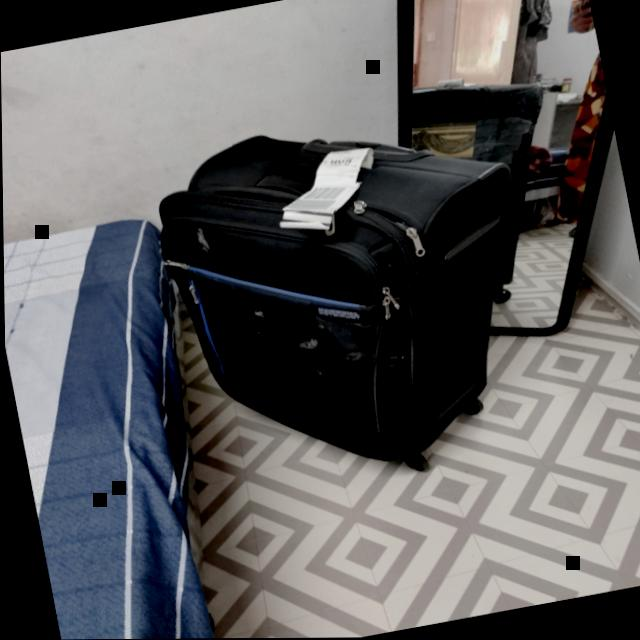luggage: (132, 86, 566, 503)
